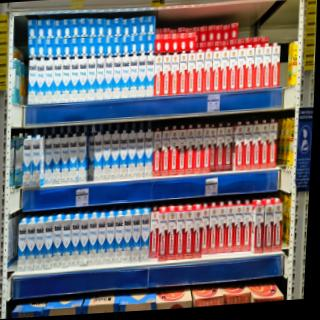Milk: (29, 131, 46, 186), (154, 203, 169, 263), (164, 201, 178, 261), (173, 201, 187, 261), (141, 124, 155, 179), (175, 120, 188, 178), (192, 117, 205, 174), (182, 202, 195, 259), (133, 124, 146, 179), (21, 134, 34, 188), (100, 128, 113, 182), (117, 127, 130, 181), (159, 124, 172, 177), (201, 42, 214, 95), (67, 131, 79, 185), (218, 44, 231, 93), (51, 133, 63, 185), (126, 127, 138, 179), (251, 41, 264, 89), (184, 49, 197, 96), (200, 200, 210, 255), (86, 130, 96, 181), (236, 45, 247, 90), (129, 34, 139, 55), (154, 33, 164, 54), (162, 32, 172, 53), (121, 18, 132, 37), (145, 33, 155, 53), (137, 34, 147, 54), (146, 15, 156, 34), (130, 17, 140, 36), (229, 20, 239, 39), (121, 35, 130, 55), (187, 31, 196, 51), (138, 15, 147, 34), (170, 33, 179, 52), (178, 32, 187, 51), (207, 25, 216, 42), (214, 24, 223, 41), (221, 24, 230, 41), (199, 25, 207, 43), (162, 26, 171, 35), (177, 27, 186, 33), (170, 28, 177, 34), (185, 27, 192, 32)
